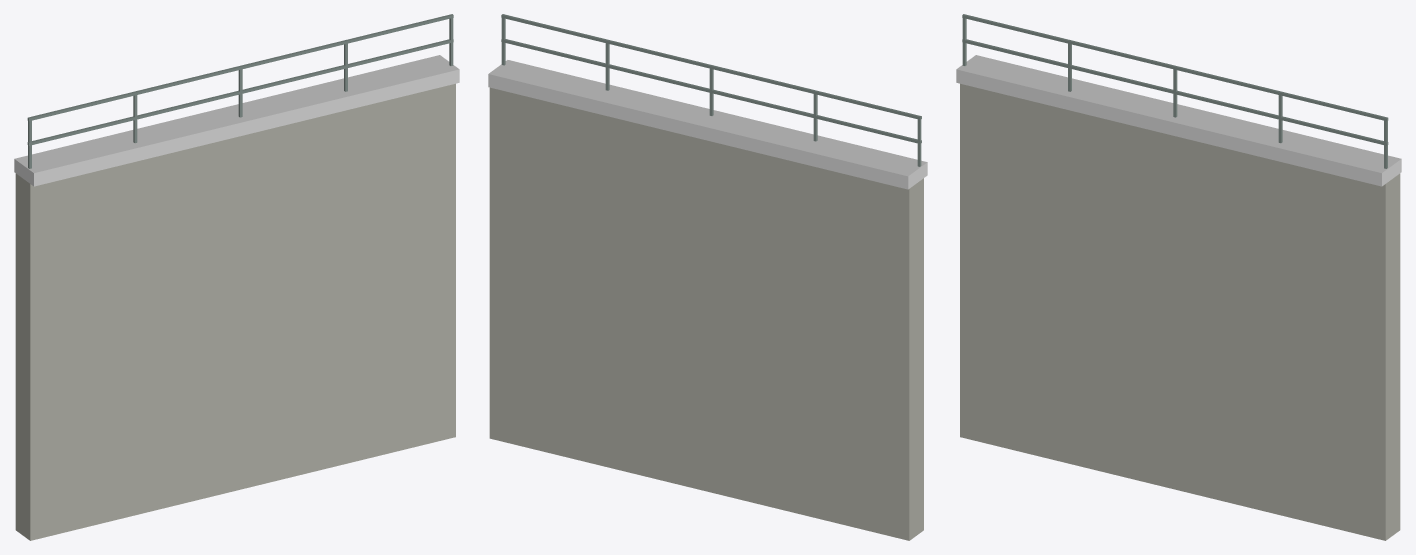
The model's file is SM_MuroTrinchera_Muro_v0_Liso_LOD0.fbx.
The picture shows the model from 3 angles, left to right: view 1: azimuth 30°, elevation 25°; view 2: azimuth 150°, elevation 25°; view 3: azimuth 330°, elevation 25°; orthographic projection.
Parts seen in each view (by area): view 1: SM_muro_trinchera_v0_LOD0; view 2: SM_muro_trinchera_v0_LOD0; view 3: SM_muro_trinchera_v0_LOD0.
Boxes of the visible parts, x1=… form: SM_muro_trinchera_v0_LOD0: x1=14, y1=14, x2=459, y2=540; SM_muro_trinchera_v0_LOD0: x1=488, y1=14, x2=927, y2=540; SM_muro_trinchera_v0_LOD0: x1=956, y1=14, x2=1401, y2=540.
Size of the model in its own units: 9.98 by 9.43 by 0.8.
